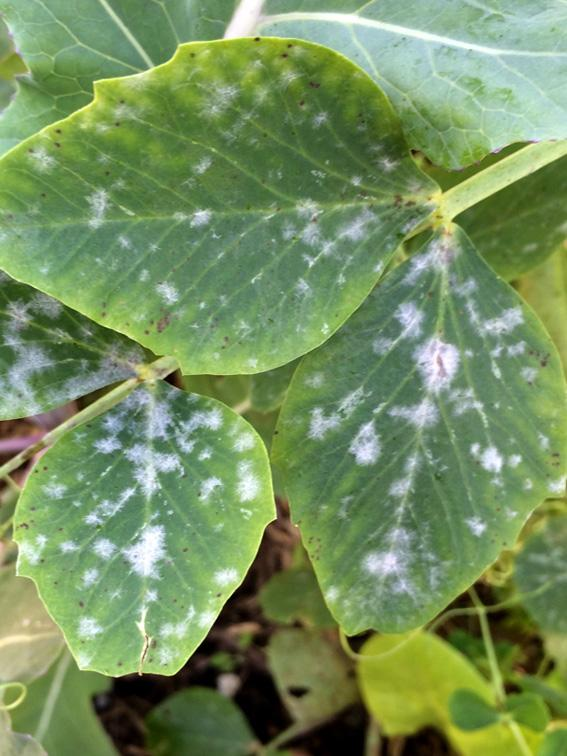Squash Powdery mildew leaf: (1, 33, 461, 382), (267, 218, 567, 653), (1, 360, 282, 688)
